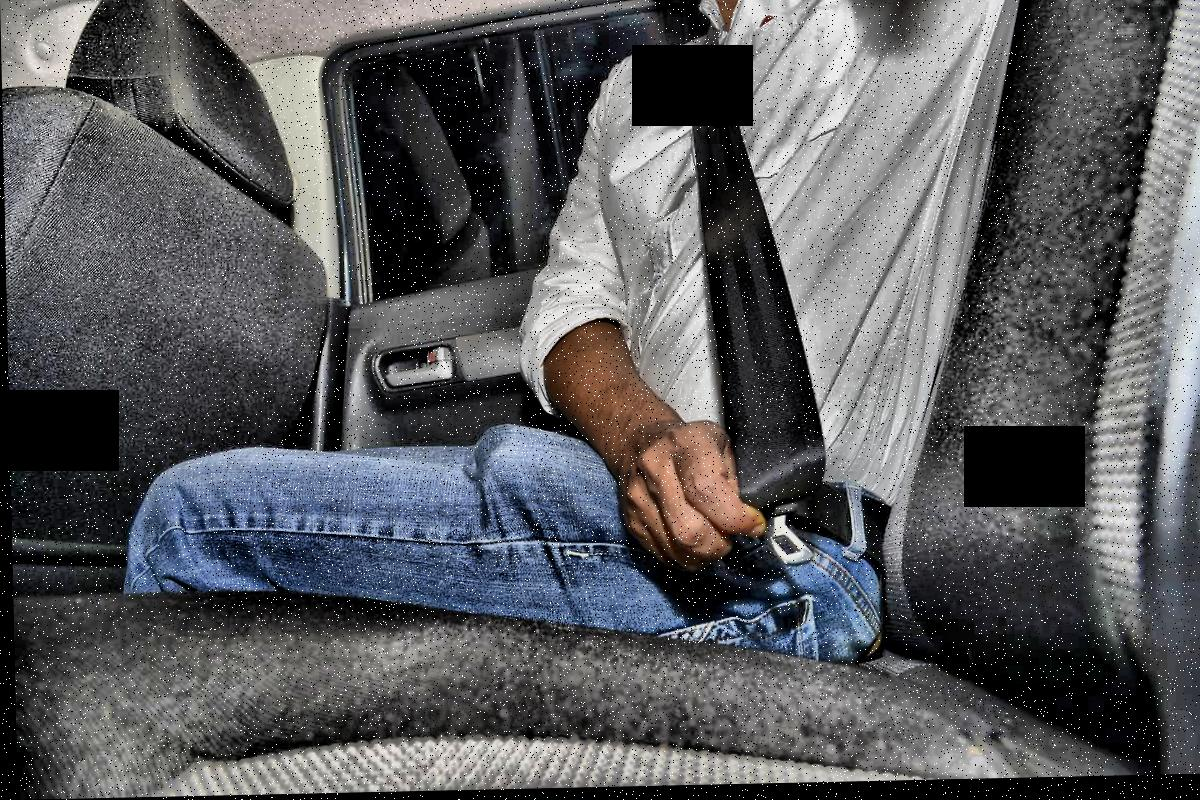seatbelt: (654, 27, 877, 576)
